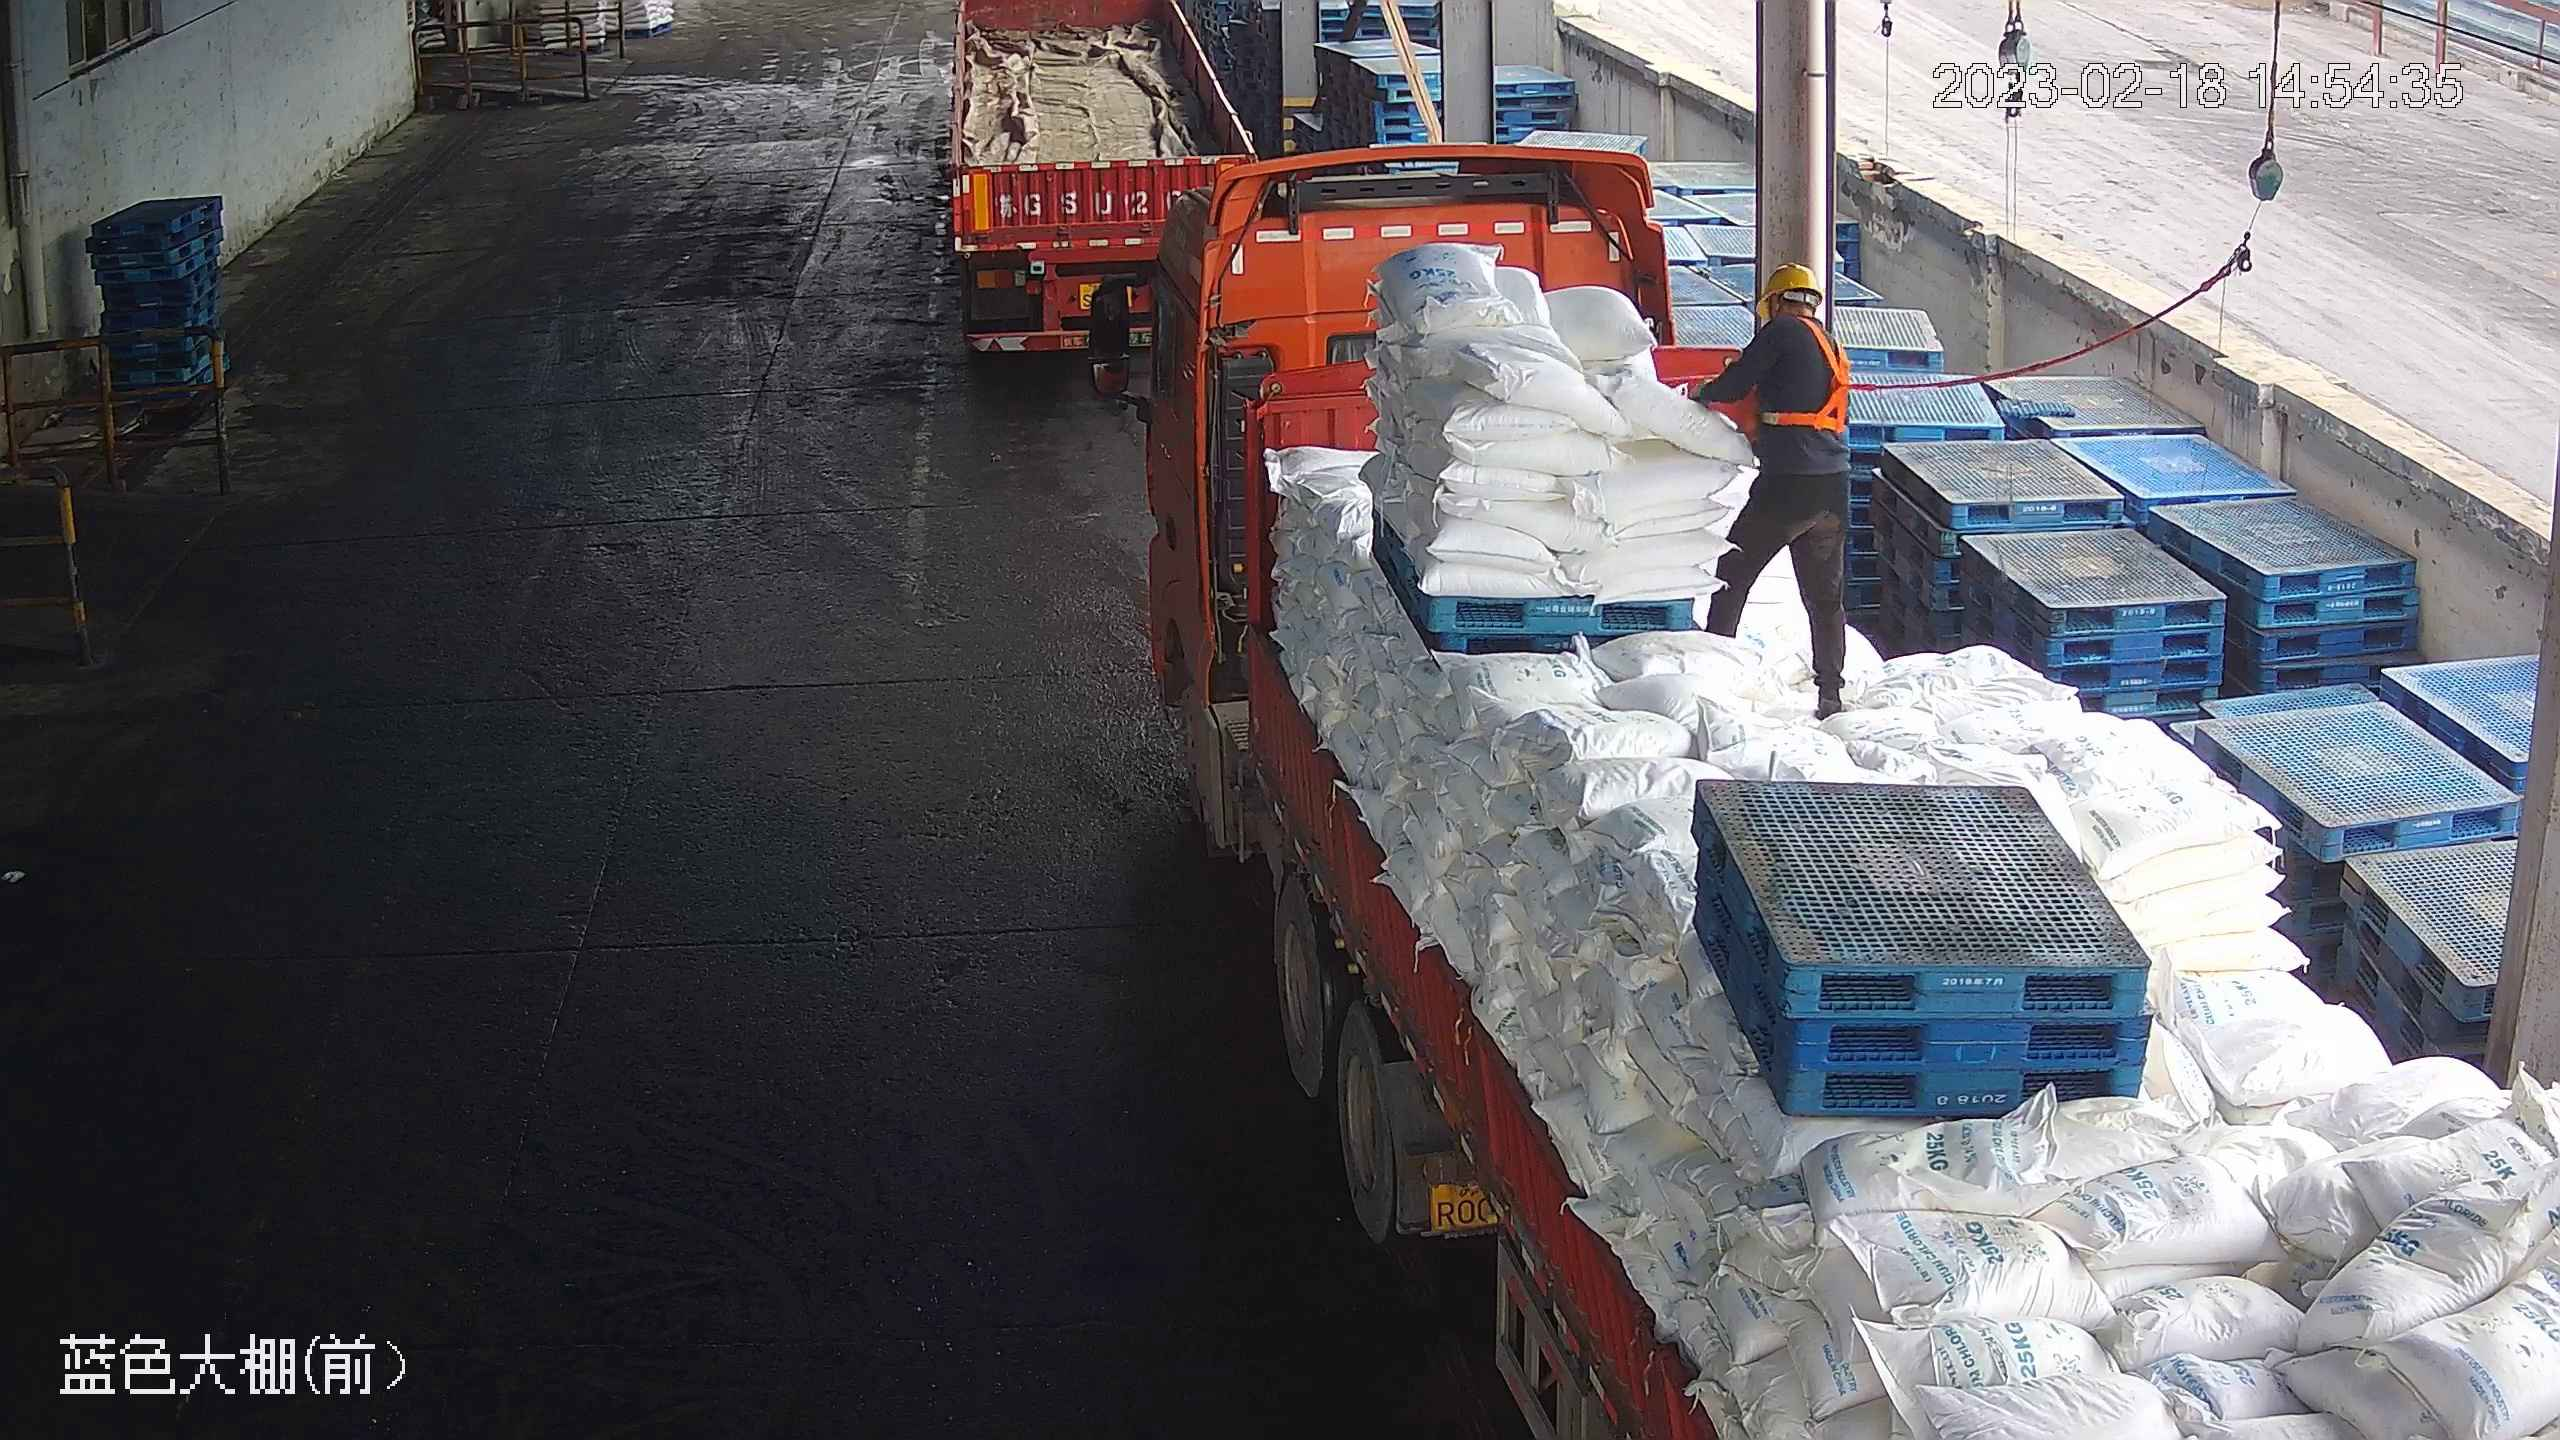belt: (1751, 313, 1863, 434)
head: (1738, 259, 1853, 367)
helmet: (1757, 260, 1818, 310)
people: (1684, 258, 1856, 719)
truck: (1158, 164, 2559, 1440), (935, 6, 1270, 358)
